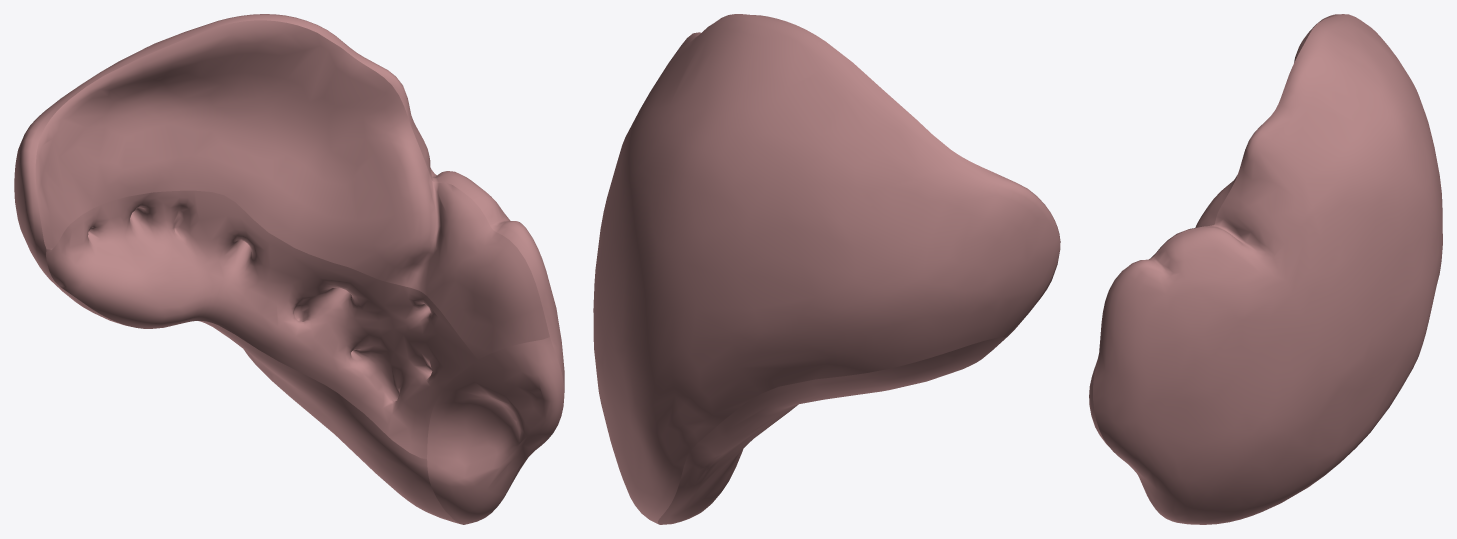
File: spleen.glb
3 renders of one model, left to right at view 1: azimuth 30°, elevation 25°; view 2: azimuth 150°, elevation 25°; view 3: azimuth 270°, elevation 25°, orthographic. The views are drawn at different scales.
Visible parts, largest first — view 1: VH_M_colic_surface_of_spleen; view 2: VH_M_colic_surface_of_spleen; view 3: VH_M_colic_surface_of_spleen.
Boxes of the visible parts, x1,y1,x2,y2 form: VH_M_colic_surface_of_spleen: [14, 14, 564, 524]; VH_M_colic_surface_of_spleen: [593, 14, 1060, 524]; VH_M_colic_surface_of_spleen: [1089, 14, 1442, 524].
Size of the model in its own units: 0.1104 by 0.1186 by 0.0886.
